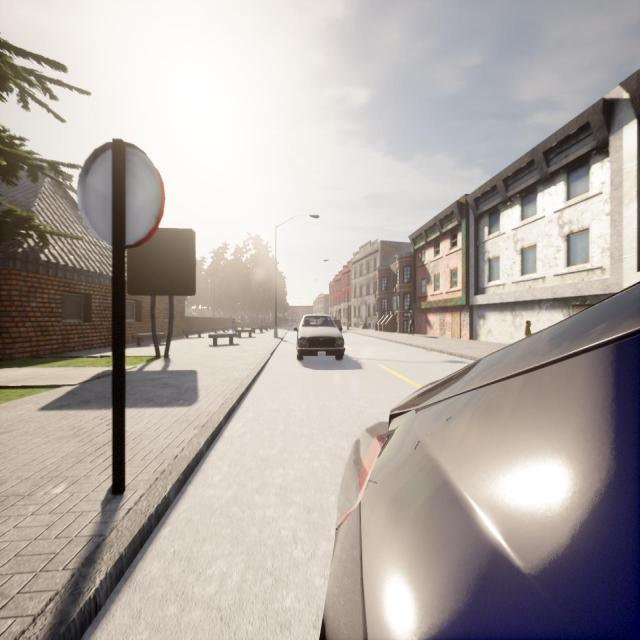Pedestrian: (406, 308, 417, 336), (524, 319, 532, 337), (230, 318, 237, 335)
Traffic_Signs: (73, 139, 164, 243)
Vehicle: (324, 283, 640, 638), (296, 314, 346, 363), (328, 314, 344, 331)
